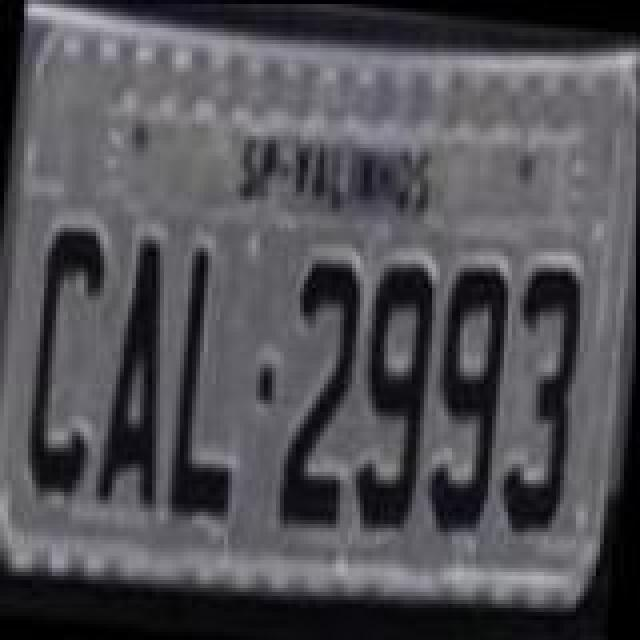2: (276, 256, 368, 536)
3: (500, 262, 592, 542)
9: (348, 256, 440, 540), (424, 262, 516, 538)
A: (94, 232, 186, 516)
C: (22, 218, 114, 502)
L: (166, 246, 254, 522)
